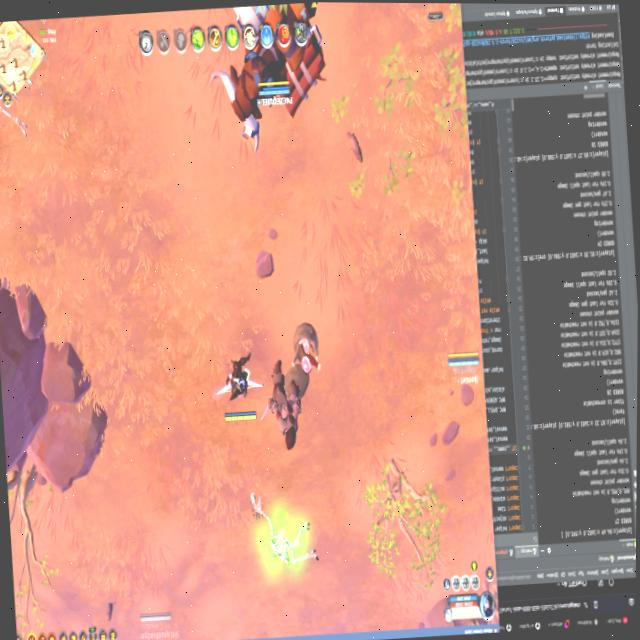ore: (255, 353, 311, 459)
red: (216, 352, 261, 426), (135, 605, 180, 640), (254, 75, 297, 110), (445, 352, 480, 370)
